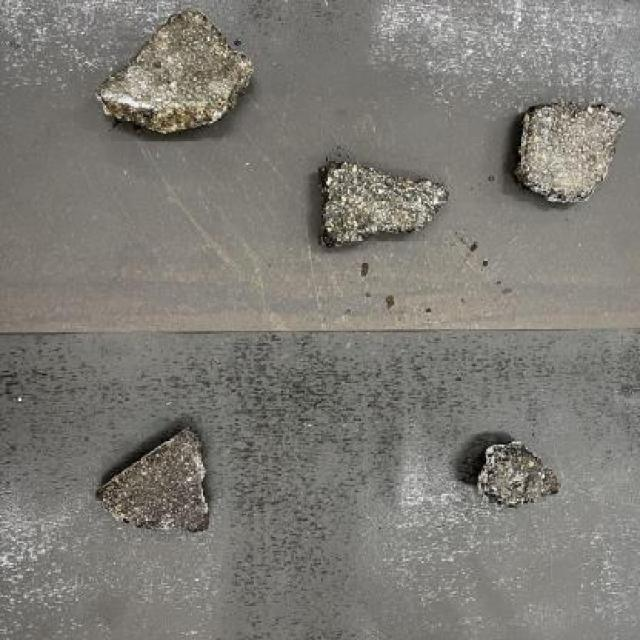Road Debris: (108, 20, 240, 125), (100, 438, 205, 528), (330, 158, 446, 238), (519, 110, 613, 198), (480, 442, 552, 500)
